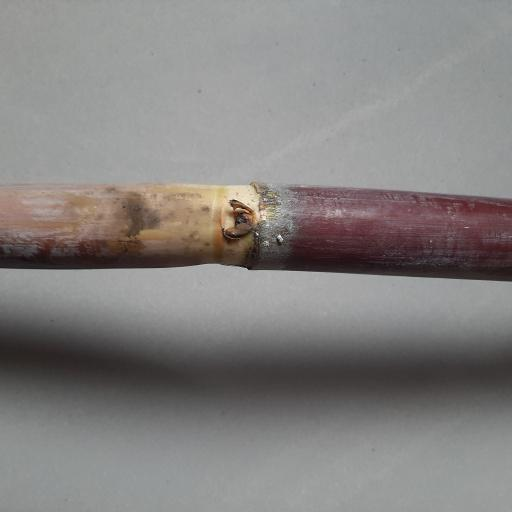Damage_Bud: (219, 198, 256, 238)
